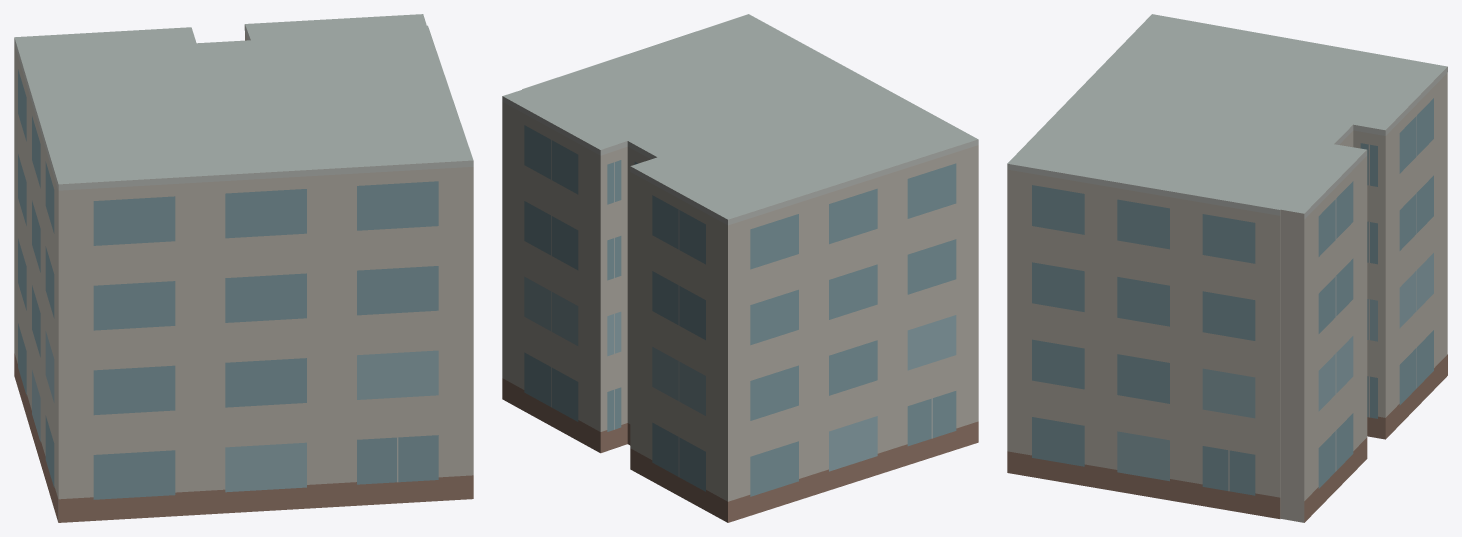
The model's file is survey-upis-32652826.glb.
3 views of the same model, side by side, from view 1: azimuth 30°, elevation 25°; view 2: azimuth 150°, elevation 25°; view 3: azimuth 270°, elevation 25° (orthographic). The views are drawn at different scales.
Parts seen in each view (by area): view 1: survey-upis-32652826.tmp; view 2: survey-upis-32652826.tmp; view 3: survey-upis-32652826.tmp.
Part boxes in pixels (<box>): survey-upis-32652826.tmp: <box>14,14,473,522</box>; survey-upis-32652826.tmp: <box>502,14,978,522</box>; survey-upis-32652826.tmp: <box>1007,14,1447,522</box>.
Bounding box in the file's own units: 17.98 × 12.98 × 16.77.
